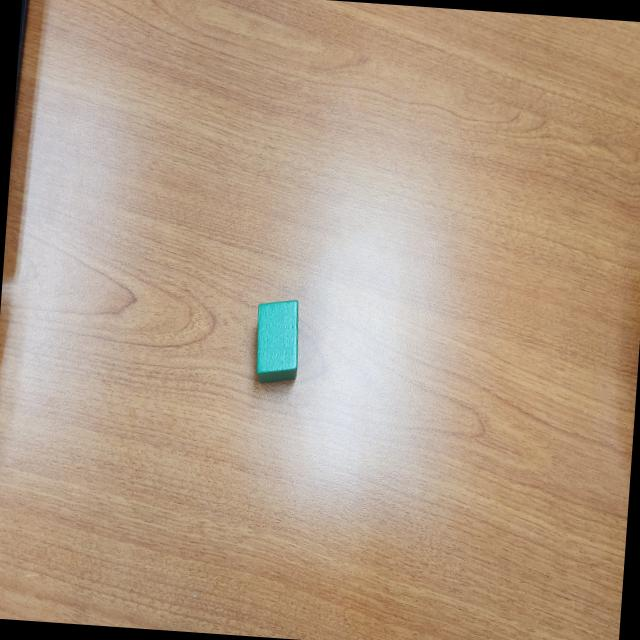green: (252, 296, 303, 386)
